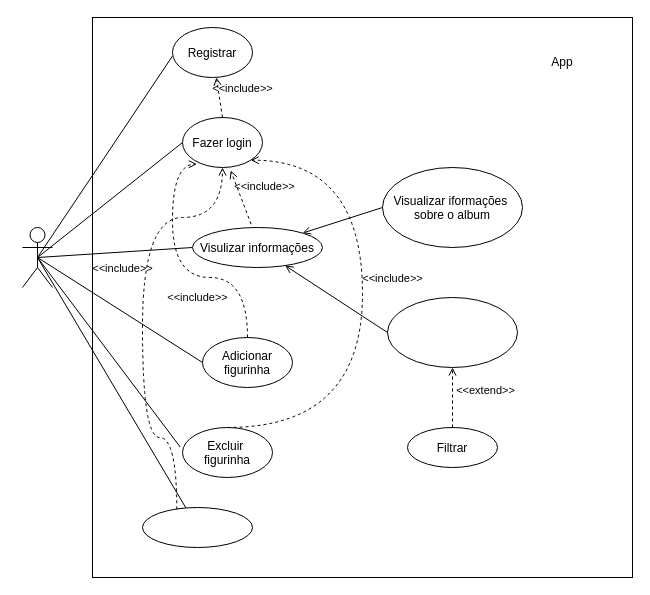
Some shapes in this 650 by 595 pixel diagram are drawn without their labels. Each missing label, with the box of its shape:
Atualizar figurinha: (142, 506, 252, 548)
Usuário: (22, 226, 52, 288)
Visualizar informações sobre as figurinhas: (386, 296, 518, 368)
